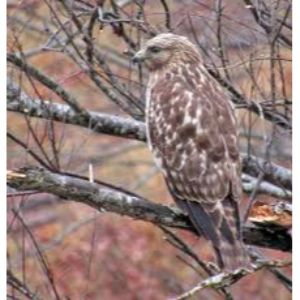hawk: (120, 25, 273, 276)
